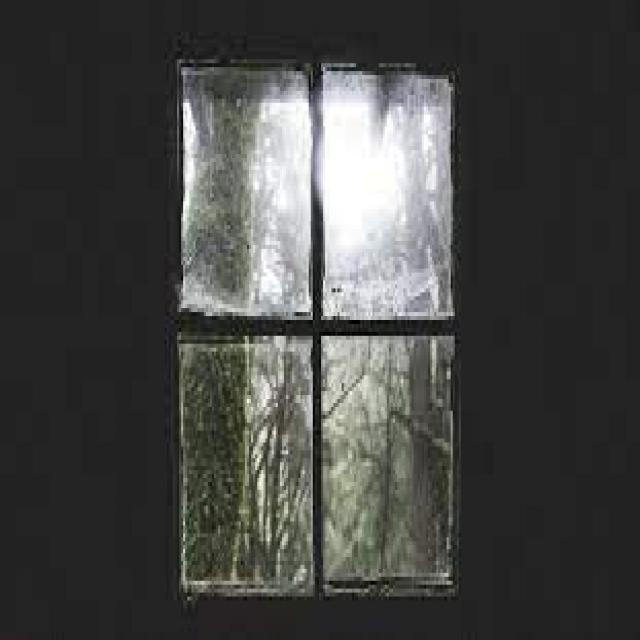Window: (169, 43, 462, 606)
